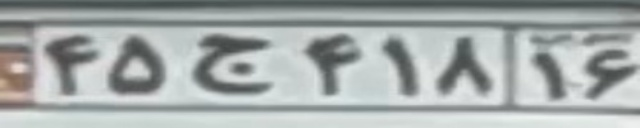1: (380, 34, 417, 96), (533, 50, 566, 99)
4: (299, 33, 362, 96), (45, 33, 96, 97)
5: (107, 34, 171, 94)
6: (579, 47, 634, 100)
8: (432, 35, 491, 92)
jim: (189, 35, 272, 93)
